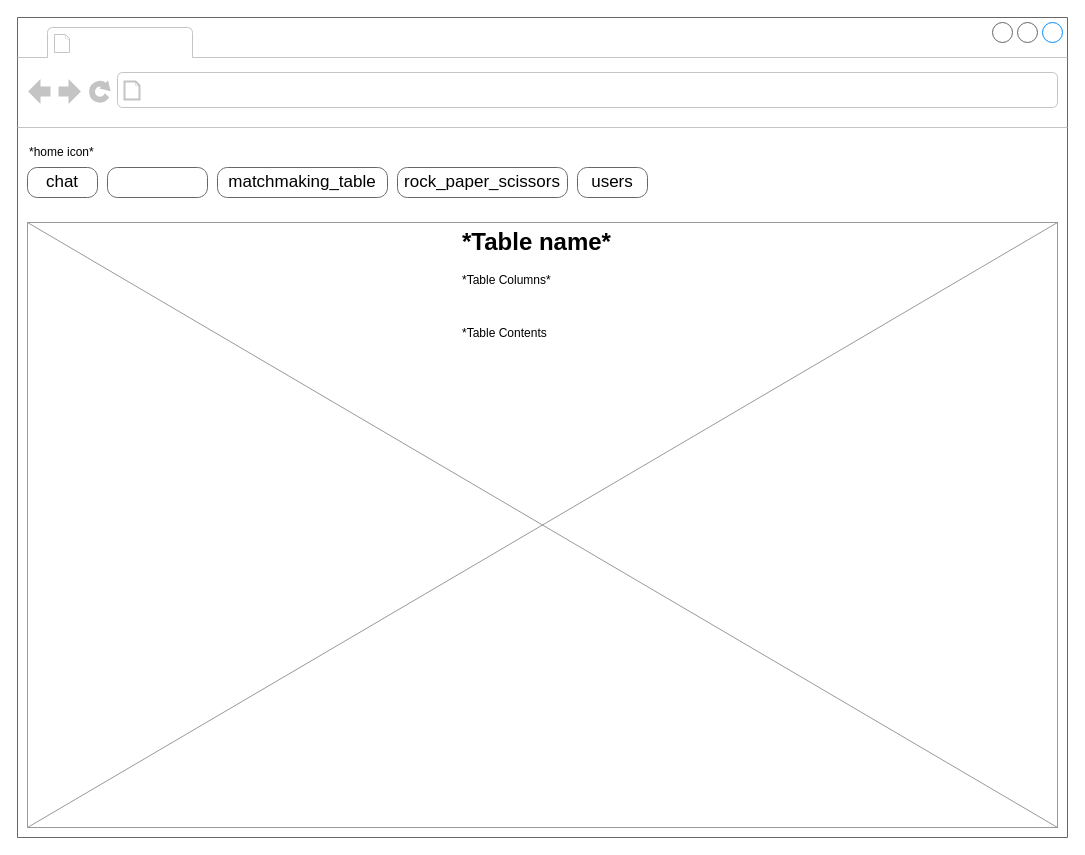
Some shapes in this 1085 by 855 pixel diagram are drawn without their labels. Each missing label, with the centre of its shape:
"Admin Function" belongs at [132,42].
"game_table" belongs at [157,182].
"http://localhost/Assignment/page/admin_function.php" belongs at [322,90].
